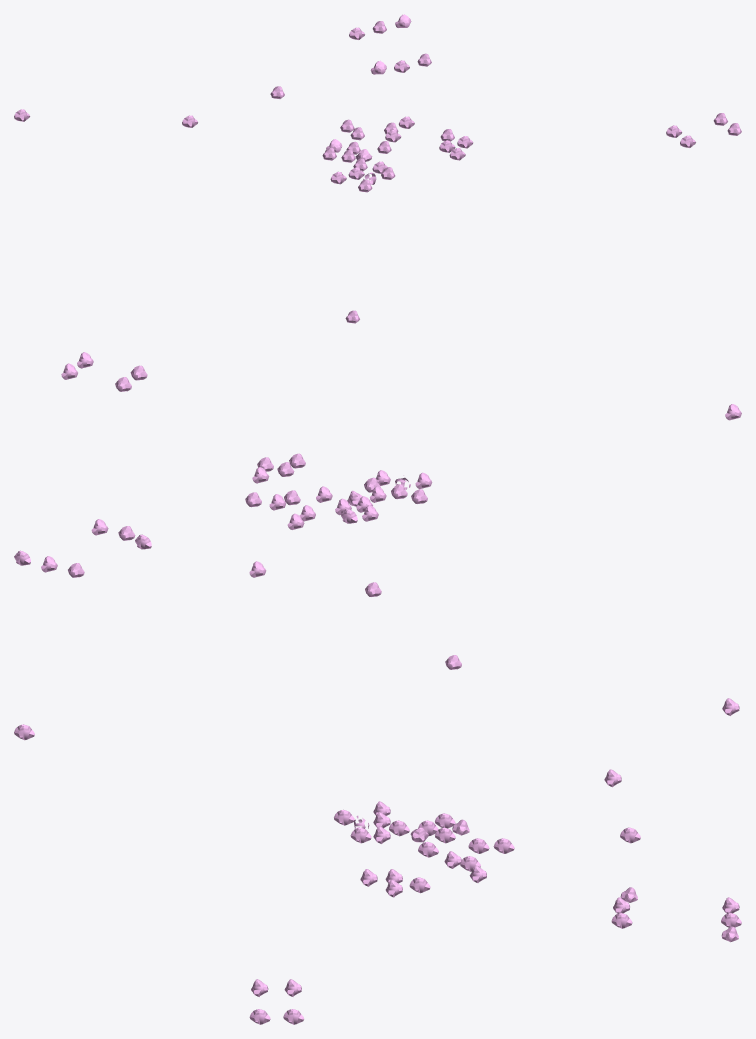
File: object_38_lev2.glb
The picture shows the model from 3 angles, top to bottom: view 1: azimuth 30°, elevation 25°; view 2: azimuth 150°, elevation 25°; view 3: azimuth 270°, elevation 25°; orthographic projection. The views are drawn at different scales.
Parts seen in each view (by area): view 1: object_38_lev2; view 2: object_38_lev2; view 3: object_38_lev2.
Boxes of the visible parts, box(x1,y1,x2,y2) form: object_38_lev2: box(14, 14, 741, 323); object_38_lev2: box(14, 352, 741, 669); object_38_lev2: box(14, 698, 741, 1024).
Size of the model in its own units: 61.64 by 1.37 by 59.8.
